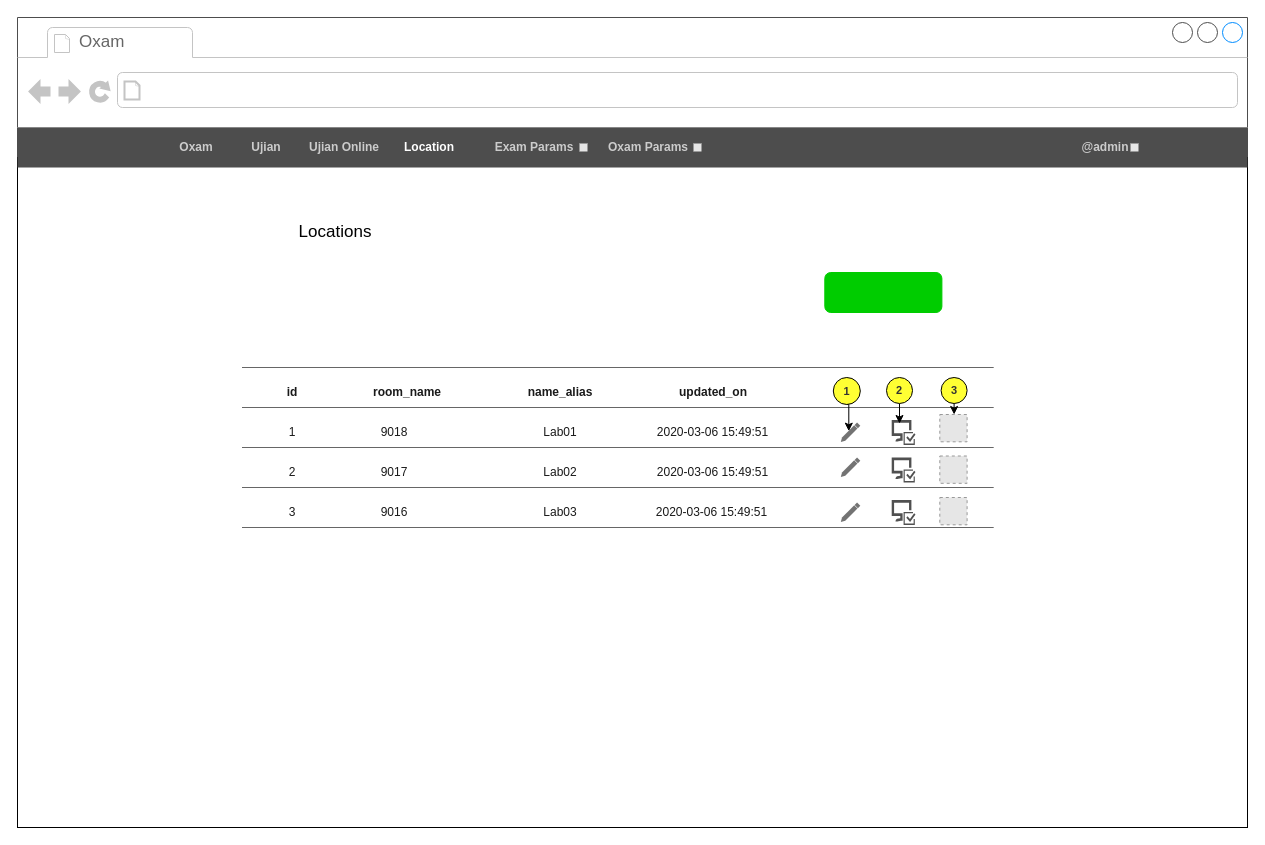
Some shapes in this 1265 by 845 pixel diagram are drawn without their labels. Grey dashed boxes stand in for pictures. Here are the shapes that lost their labels. From the top down, the centre of each, then its label:
the point at 272,90: https://oxam.ftis/admin/locations
the point at 883,292: Create New
